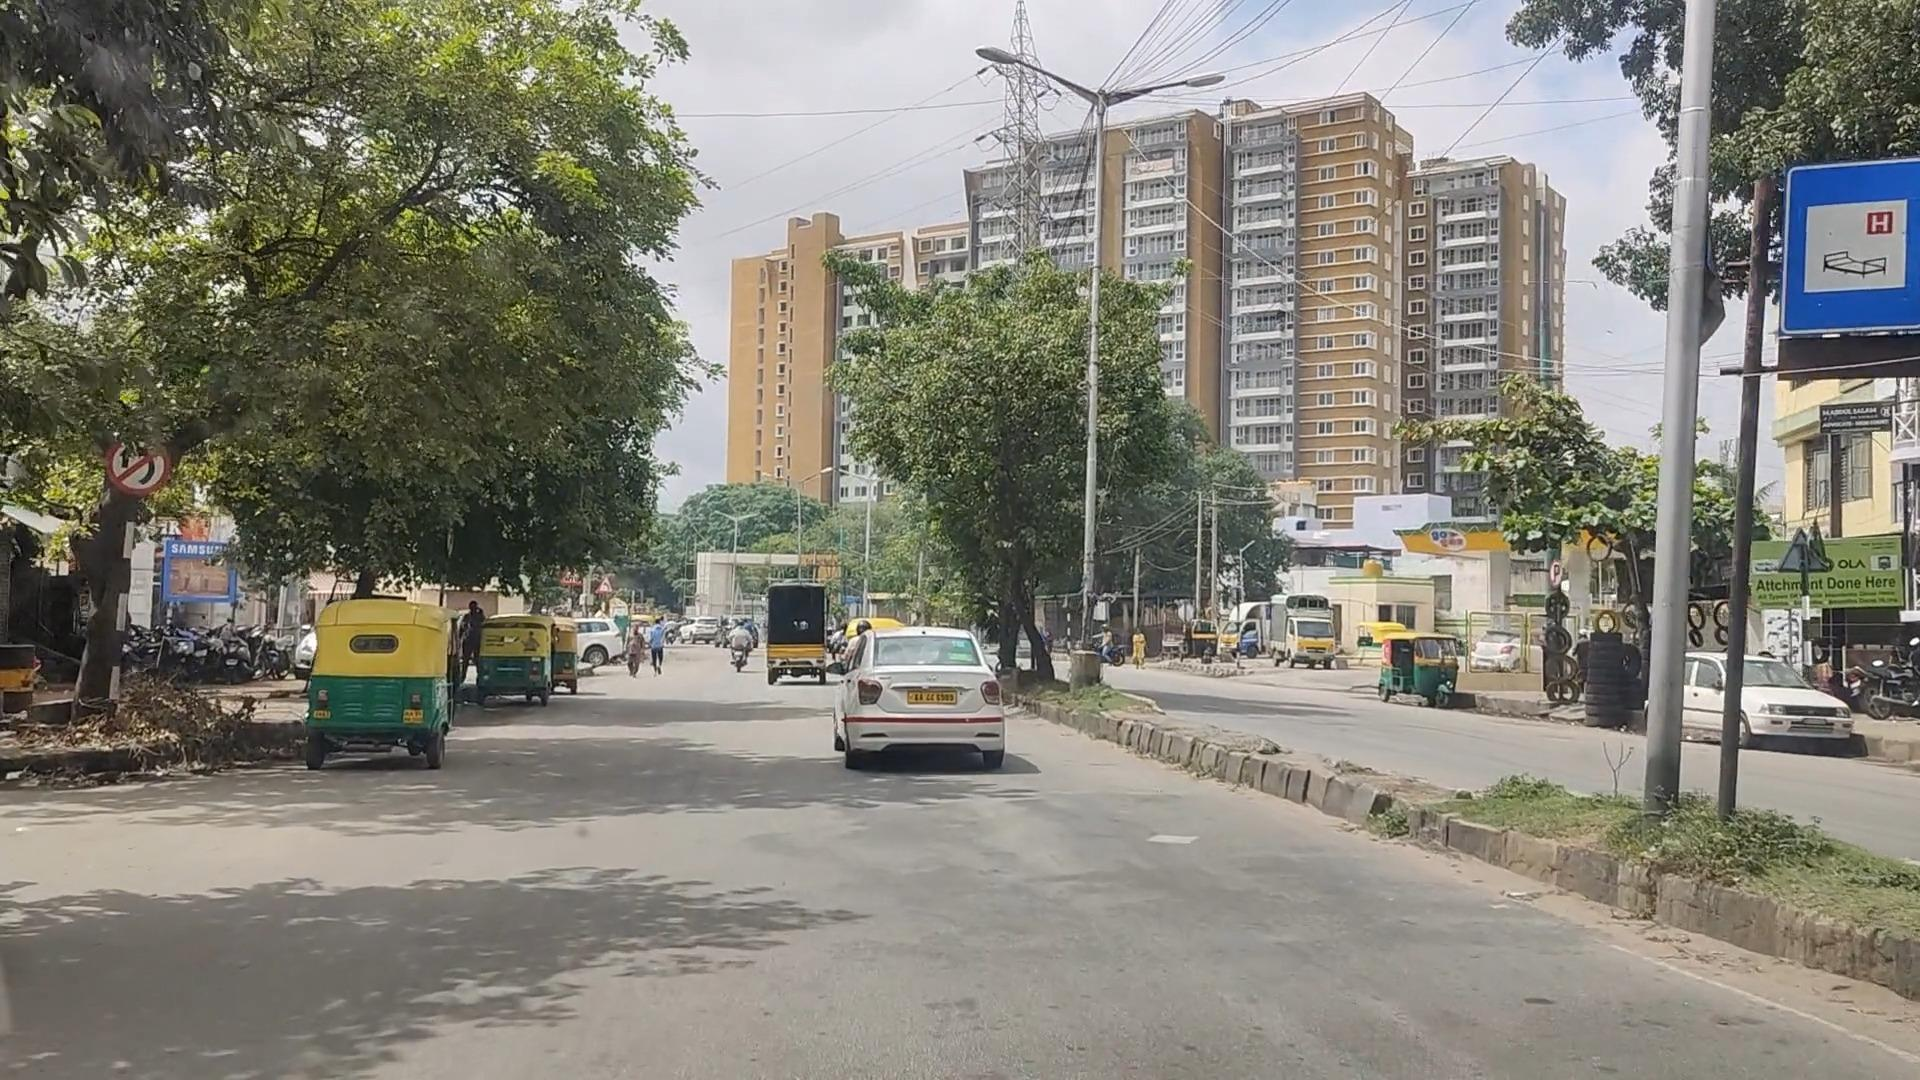LMV: (840, 633, 1009, 787), (316, 615, 447, 756)
